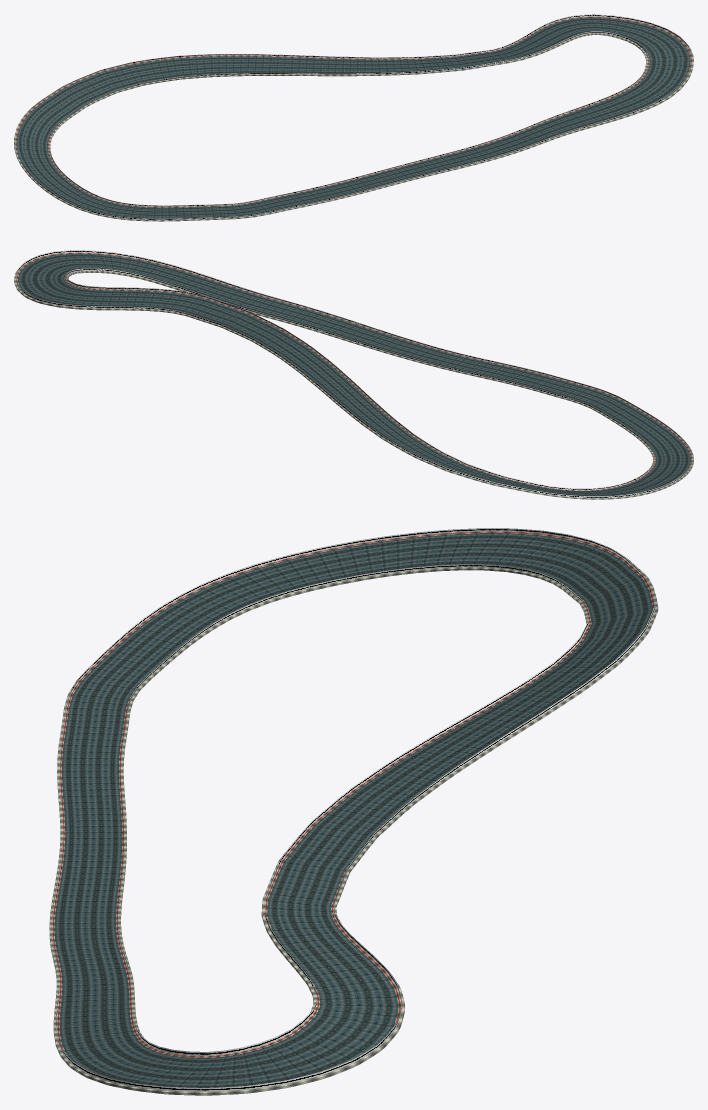
The picture shows the model from 3 angles, top to bottom: view 1: azimuth 30°, elevation 25°; view 2: azimuth 150°, elevation 25°; view 3: azimuth 270°, elevation 25°; orthographic projection. The views are drawn at different scales.
Parts seen in each view (by area): view 1: Road, Wall; view 2: Road, Wall; view 3: Road, Wall.
Boxes of the visible parts, bbox=[...] form: Road: bbox=[14, 16, 693, 221]; Wall: bbox=[15, 14, 692, 219]; Road: bbox=[14, 252, 693, 499]; Wall: bbox=[16, 250, 692, 498]; Road: bbox=[49, 531, 658, 1095]; Wall: bbox=[52, 528, 655, 1091].
Size of the model in its own units: 213664 by 16324 by 92320.
